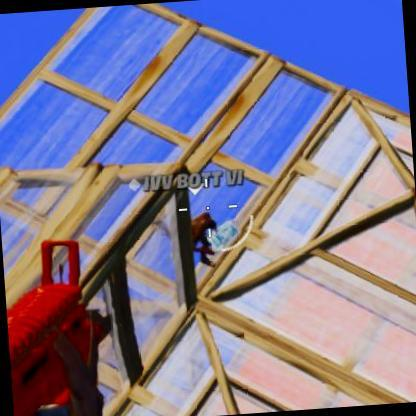person: (189, 208, 218, 268)
